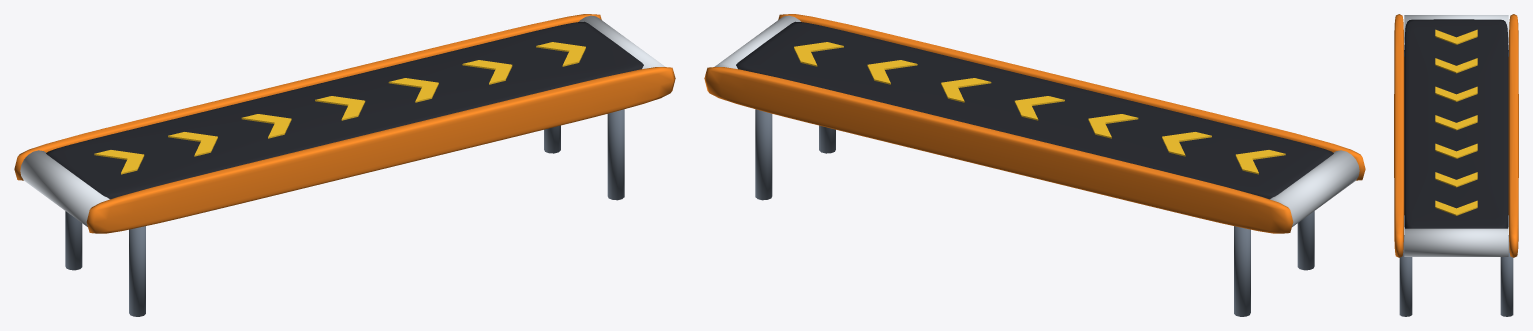
Rendered from conveyor.glb.
3 views of the same model, side by side, from view 1: azimuth 30°, elevation 25°; view 2: azimuth 150°, elevation 25°; view 3: azimuth 270°, elevation 25° (orthographic). The views are drawn at different scales.
Parts seen in each view (by area): view 1: Body; view 2: Body; view 3: Body.
Part boxes in pixels (left/top/right/bottom): Body: left=14, top=14, right=675, bottom=316; Body: left=704, top=14, right=1365, bottom=316; Body: left=1394, top=14, right=1518, bottom=316.
Bounding box in the file's own units: 6.4 × 1.31 × 1.48.
